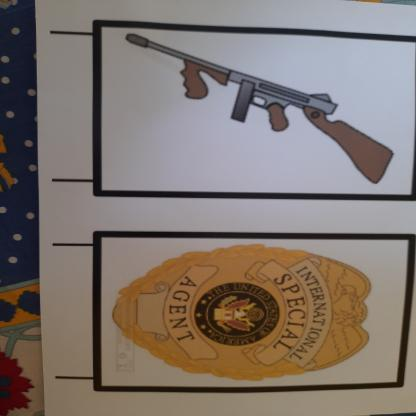Bootlegger: (119, 25, 414, 191)
G-man: (102, 236, 381, 389)
